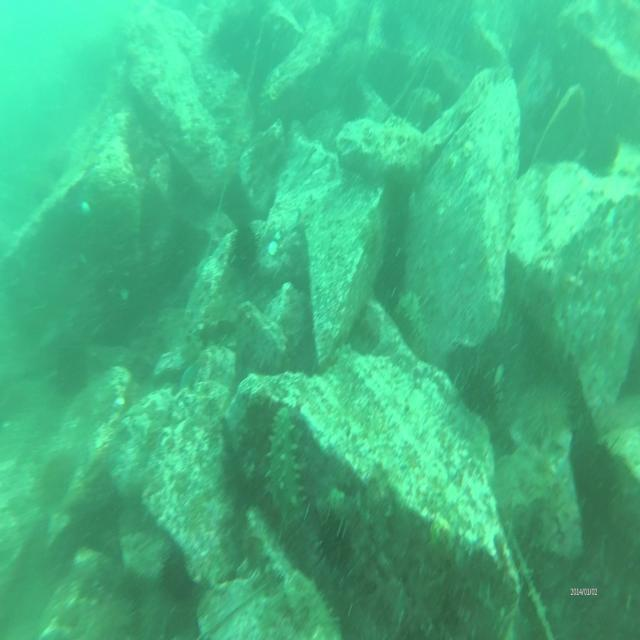echinus: (526, 373, 579, 455), (315, 513, 358, 583), (32, 449, 78, 510), (462, 364, 501, 429), (162, 550, 196, 606), (374, 8, 406, 55), (229, 230, 259, 277), (339, 80, 368, 120)
holothurian: (264, 404, 306, 530), (398, 291, 430, 350)
